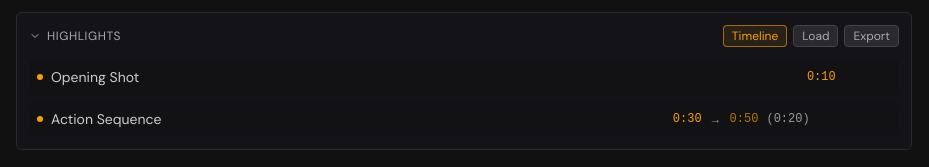
HighlightList — collapsible › shows count badge when collapsed with highlights
Click the button titled "Collapse" at (75, 36), box [29,28,121,44]
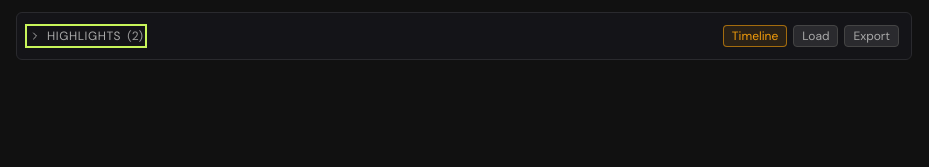
Now the text "(2)" is shown, box [127,28,143,44]
